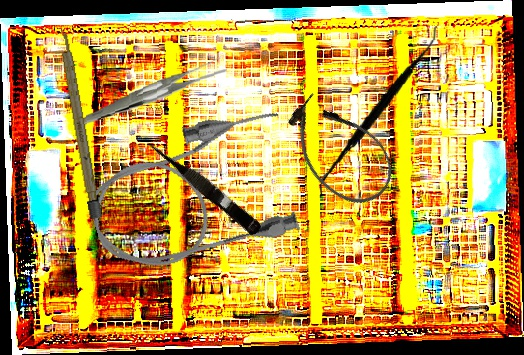Cannula: (75, 99, 312, 288), (270, 80, 409, 221)
Dressing Forceps: (70, 56, 230, 128)
Micro Scissor: (142, 133, 265, 237)
Scalpel Handle: (57, 28, 102, 220)
Spatula Surgical: (319, 16, 439, 208)
